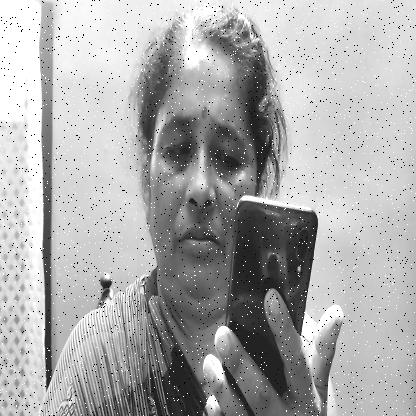Distracted: (137, 25, 259, 319)
